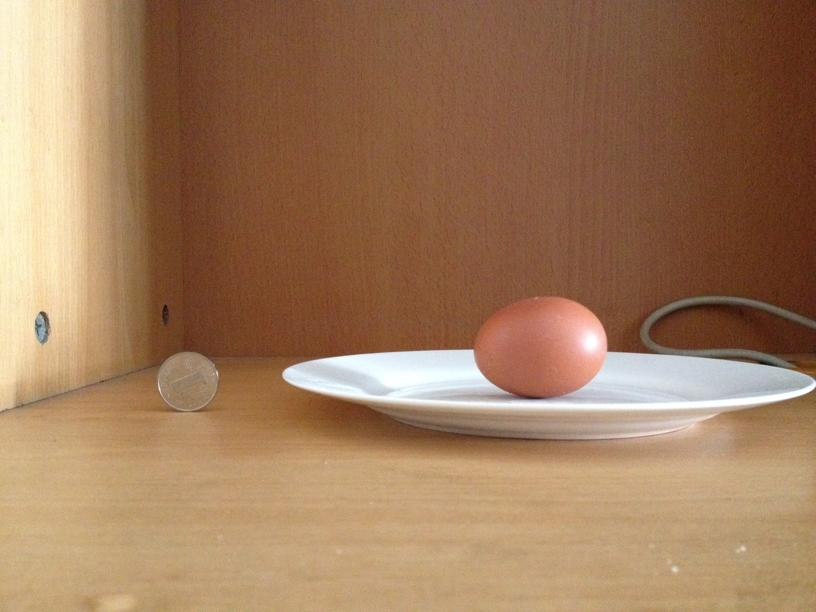coin: (154, 347, 220, 412)
egg: (469, 295, 607, 400)
